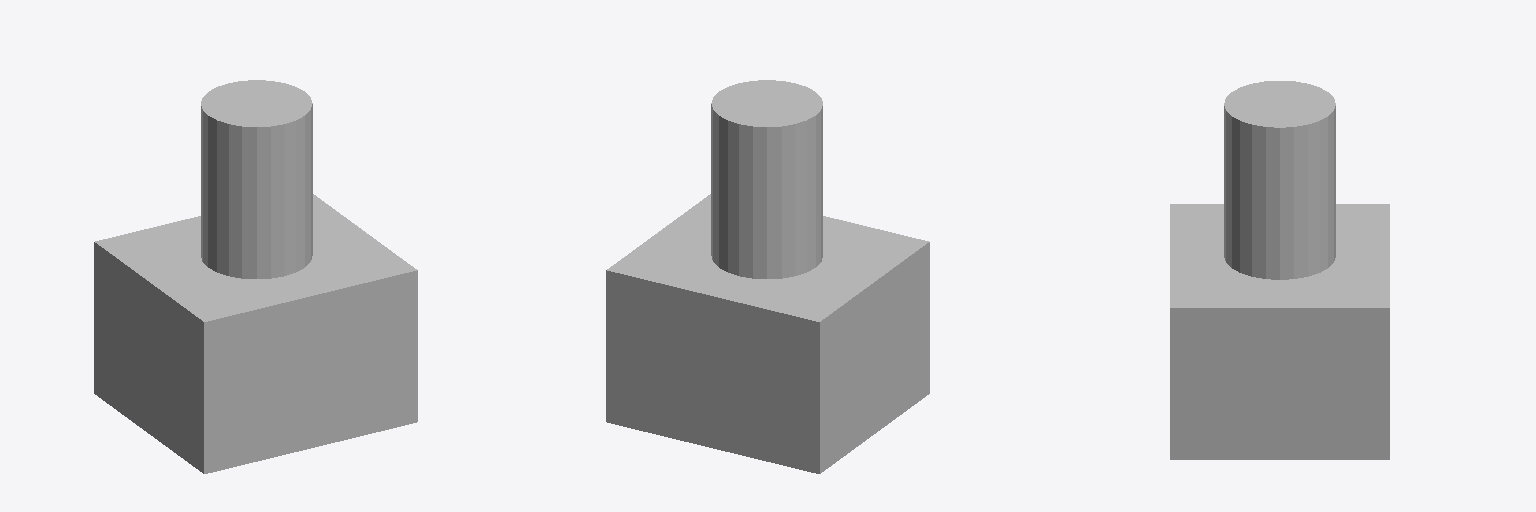
The model's file is pedestal.obj.
The picture shows the model from 3 angles: view 1: azimuth 30°, elevation 25°; view 2: azimuth 150°, elevation 25°; view 3: azimuth 270°, elevation 25°; orthographic projection.
Parts seen in each view (by area): view 1: Mesh1 Model; view 2: Mesh1 Model; view 3: Mesh1 Model.
Boxes of the visible parts, x1=… form: Mesh1 Model: x1=94, y1=80, x2=417, y2=473; Mesh1 Model: x1=606, y1=80, x2=929, y2=473; Mesh1 Model: x1=1170, y1=81, x2=1389, y2=459.
Bounding box in the file's own units: 1.32 × 1.8 × 1.18.